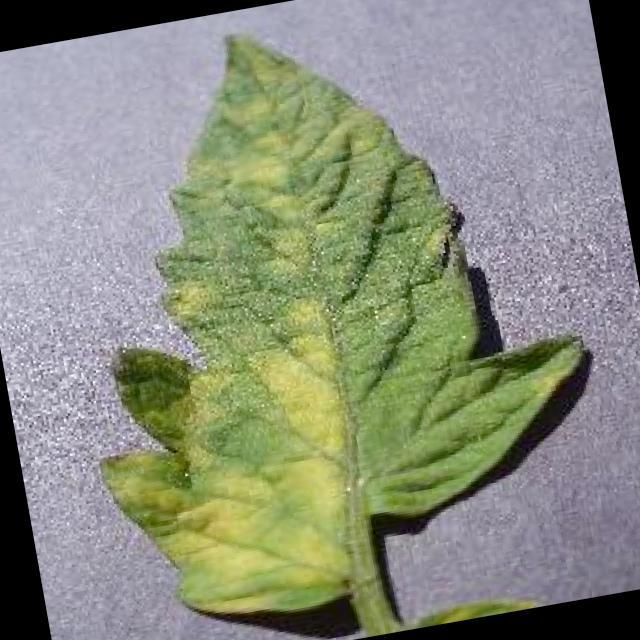Tomato mold leaf: (26, 0, 622, 640)
